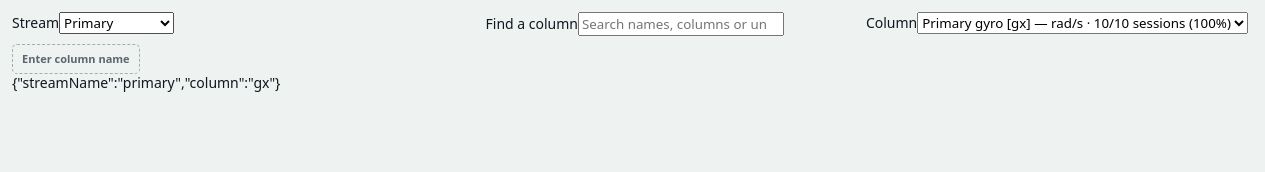
Scenario: ScenarioColumnPicker › discovers native streams, selects stream-local columns, and shows coverage
Step 1. Select "imu_native" in the dropdown labelled "Stream" → [117, 23], box [59,12,174,34]
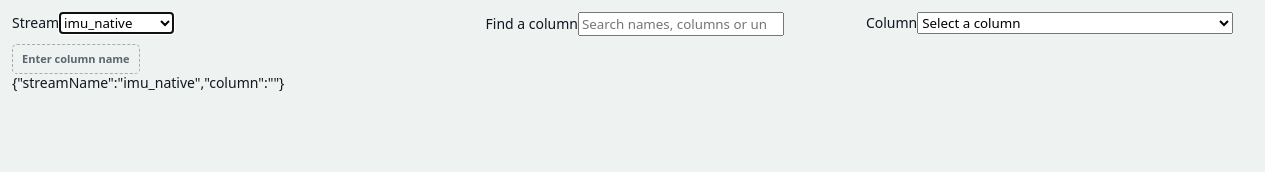
Expected: the option "Primary gyro" is not shown
Expected: the dropdown labelled "Column" shows "Select a column"
Step 2. Select "Gyroscope X [gx] — deg/s · 8/10 sessions (80%)" in the dropdown labelled "Column" → [1075, 23], box [917,12,1233,34]
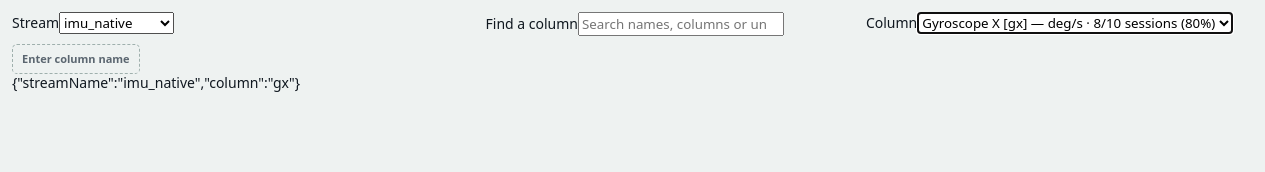
Expected: the text "{\"streamName\":\"imu_native\",\"column\":\"gx\"}" shows "\"streamName\":\"imu_native\",\"column\":\"gx\"", [12,73,300,92]
